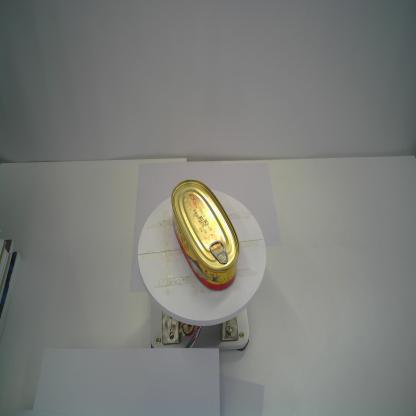Canned Food: (171, 178, 240, 292)
